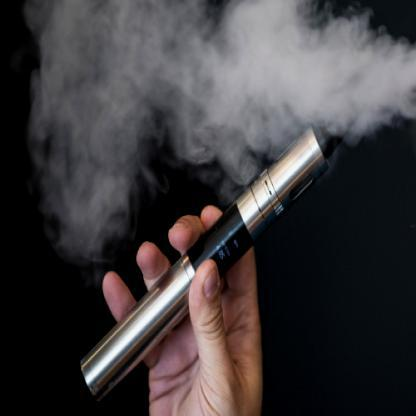smoke: (21, 0, 174, 254), (193, 2, 415, 145)
